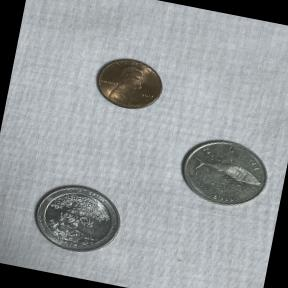Croatia-2Kune-B: (168, 128, 280, 220)
US-1cent-B: (82, 44, 177, 122)
US-25cent-B: (19, 172, 133, 266)
